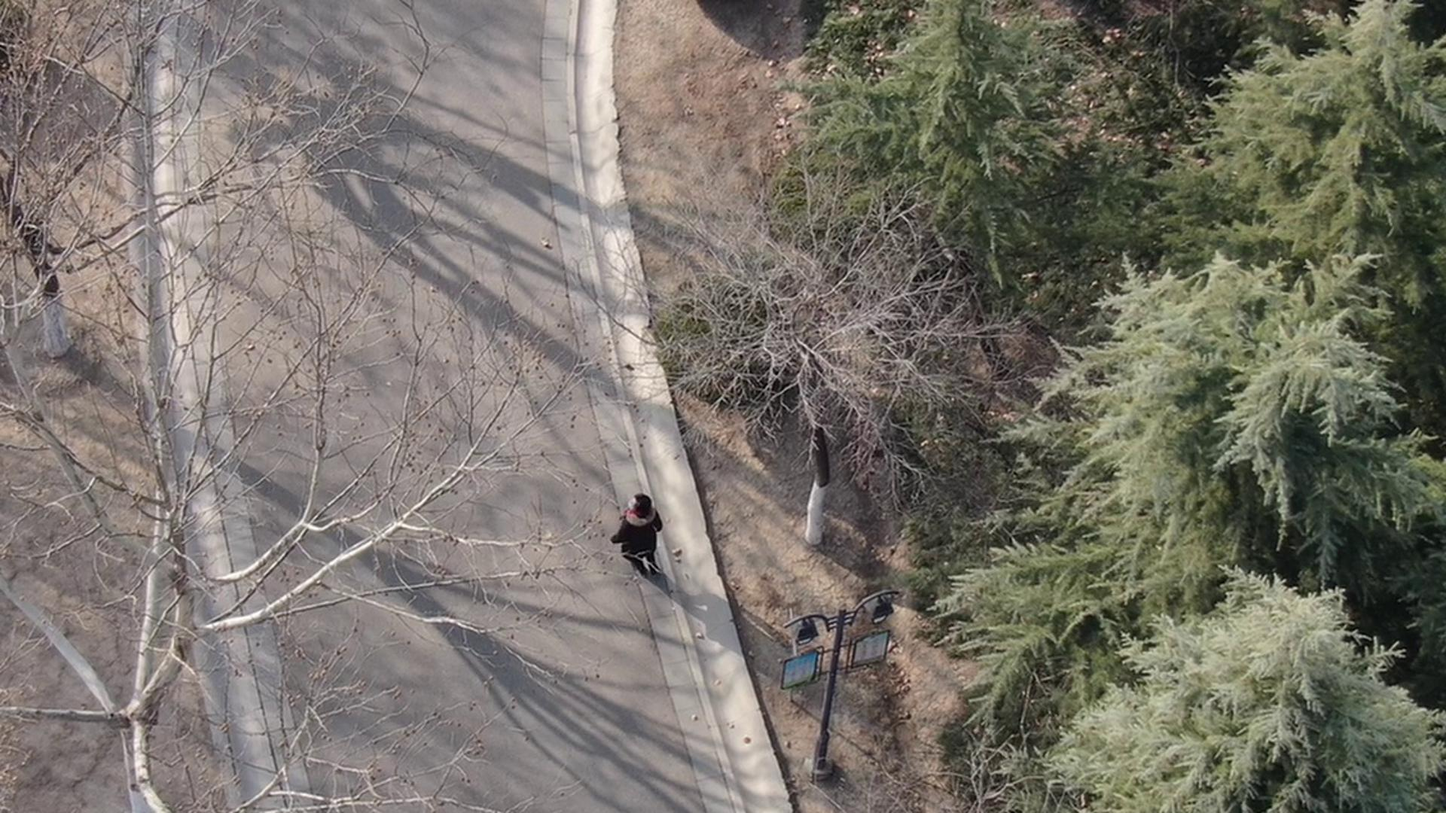human: (624, 495, 682, 589)
